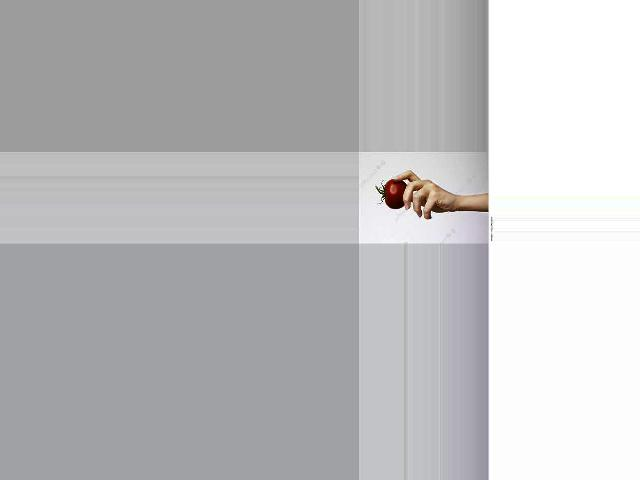tomato: (375, 180, 406, 209)
